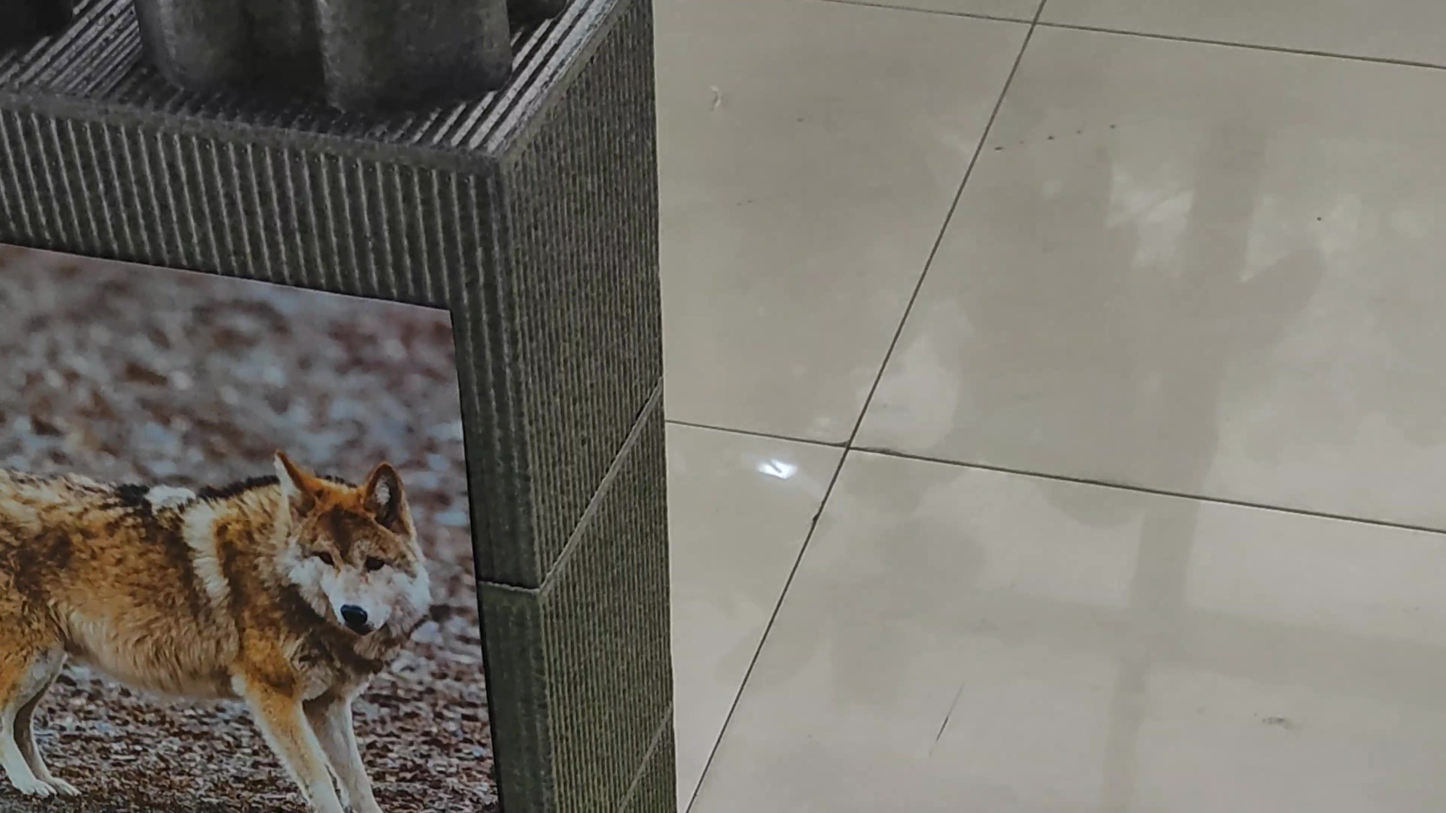wolf: (6, 411, 446, 813)
